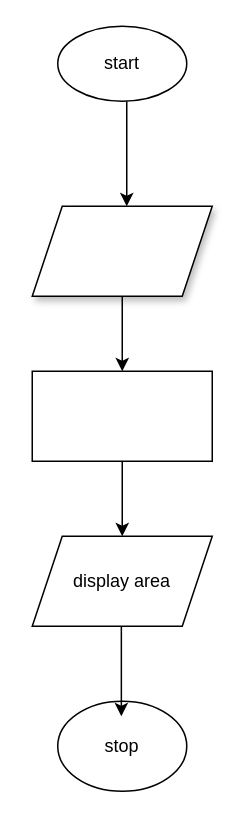
Image size: 248x818. Some labels were removed from this diagram. Here are the shapes that lost their labels. From the top down, the centre of each, then its label:
point 123,253: input side
point 121,415: area = side * side
